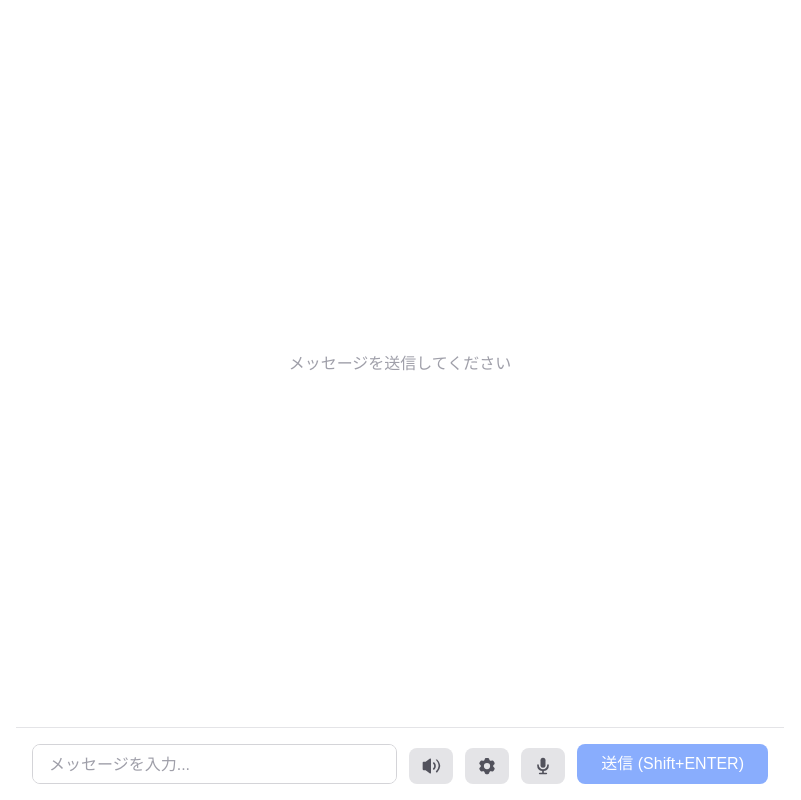
Test: ChatContainer › should show error message on HTTP error
Type "Hello" into the text box with placeholder "メッセージを入力..." at (215, 764), box [32,744,397,784]
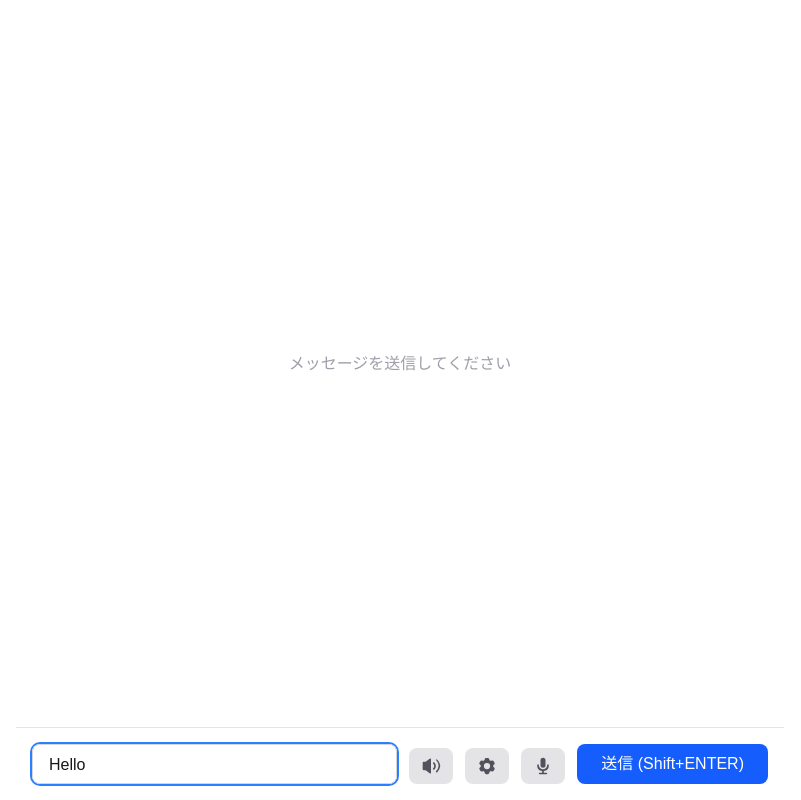
Click the button "送信 (Shift+ENTER)" at (673, 764), box [577,744,768,784]
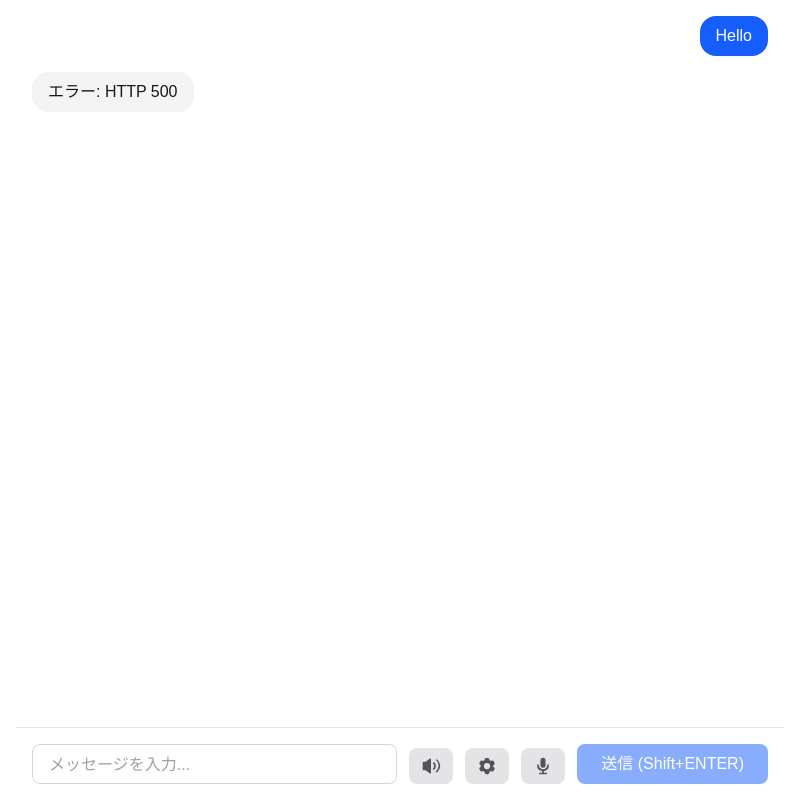
Expected: the text "エラー: HTTP 500" is shown, [32,72,194,112]
